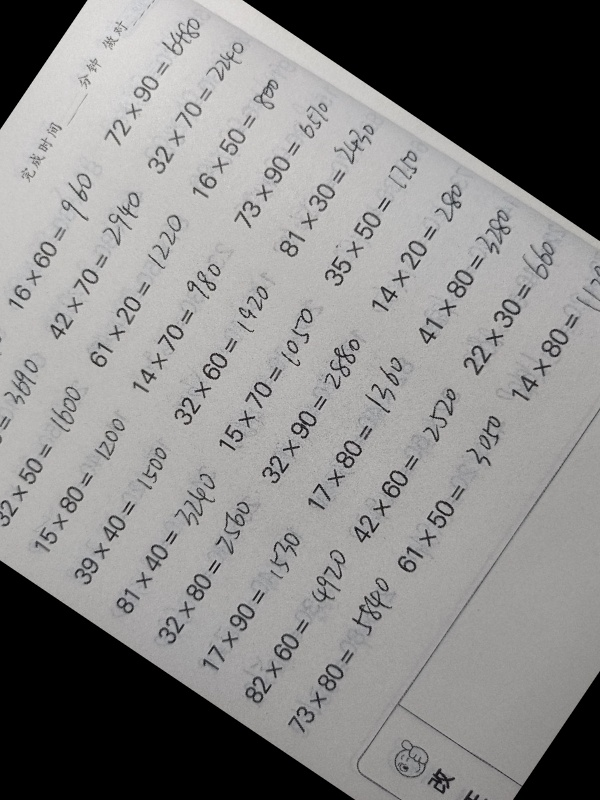equation: (460, 227, 568, 379), (217, 307, 325, 459), (274, 108, 381, 259), (416, 198, 522, 349), (320, 137, 426, 288), (172, 279, 278, 430), (101, 0, 207, 150), (244, 556, 349, 707), (201, 525, 306, 676), (306, 364, 411, 515), (156, 497, 261, 648), (71, 437, 176, 588), (129, 247, 234, 398), (86, 220, 191, 371), (44, 192, 149, 343), (145, 27, 250, 178), (289, 586, 394, 736), (258, 336, 363, 486), (369, 167, 474, 317), (31, 407, 136, 557), (234, 83, 339, 233), (189, 54, 294, 204), (114, 467, 218, 618), (5, 163, 109, 314), (397, 427, 501, 577), (351, 397, 455, 547), (0, 379, 95, 530), (513, 259, 600, 410), (0, 351, 53, 502), (0, 323, 15, 474)
